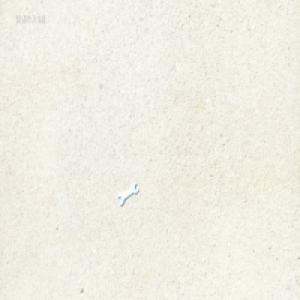Wrench: (117, 181, 138, 207)
